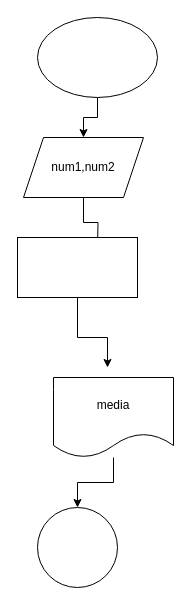
Some shapes in this 191 by 605 pixel diagram are drawn without their labels. Here are the shapes that lost their labels. From the top down, the centre of each, then its label:
At (97,57): "inicio".
At (77,267): "media=(num1+num2)".
